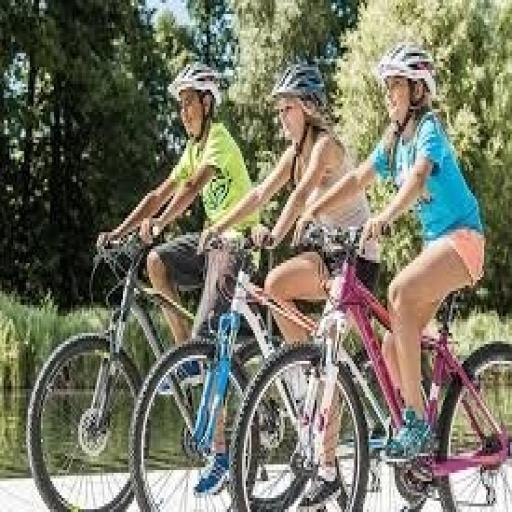cycling: (194, 59, 378, 509), (95, 59, 262, 498)
